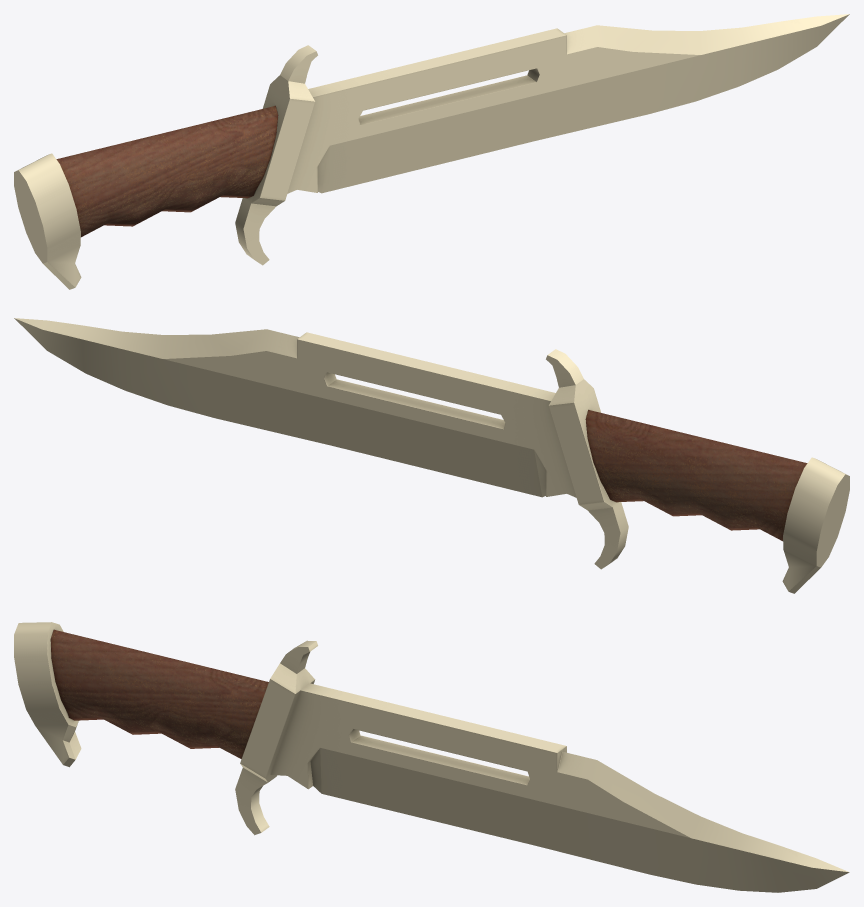
File: melee_63.gltf
3 renders of one model, top to bottom at view 1: azimuth 30°, elevation 25°; view 2: azimuth 150°, elevation 25°; view 3: azimuth 330°, elevation 25°, orthographic.
Visible parts, largest first — view 1: Cylinder.001; view 2: Cylinder.001; view 3: Cylinder.001.
Boxes of the visible parts, <box> form: Cylinder.001: <box>14,14,849,289</box>; Cylinder.001: <box>14,318,849,593</box>; Cylinder.001: <box>14,622,849,892</box>.
Size of the model in its own units: 3.37 by 0.7785 by 0.1726.
Materials: 1 (1 with a texture image).
